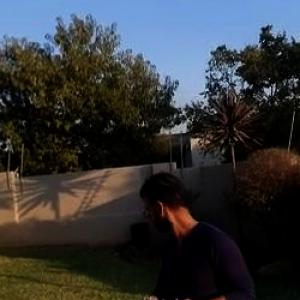follow: (133, 164, 263, 299)
